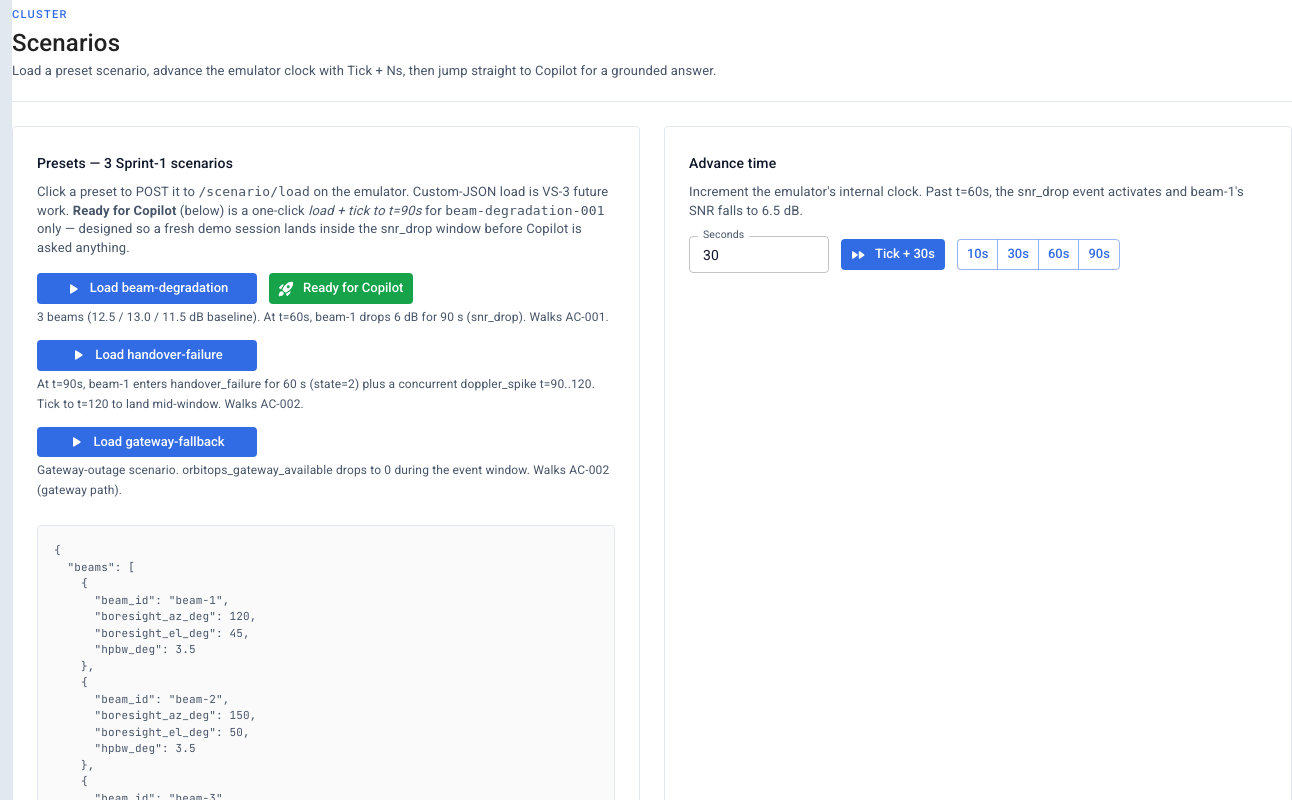
Test: Scenarios — Ready for Copilot affordance › after success it shows 'Ready for Copilot' status and lists snr_drop active
The image size is (1292, 800).
Click the button "Ready for Copilot": x=341, y=289 [269,273,413,304]
(page scrolled)
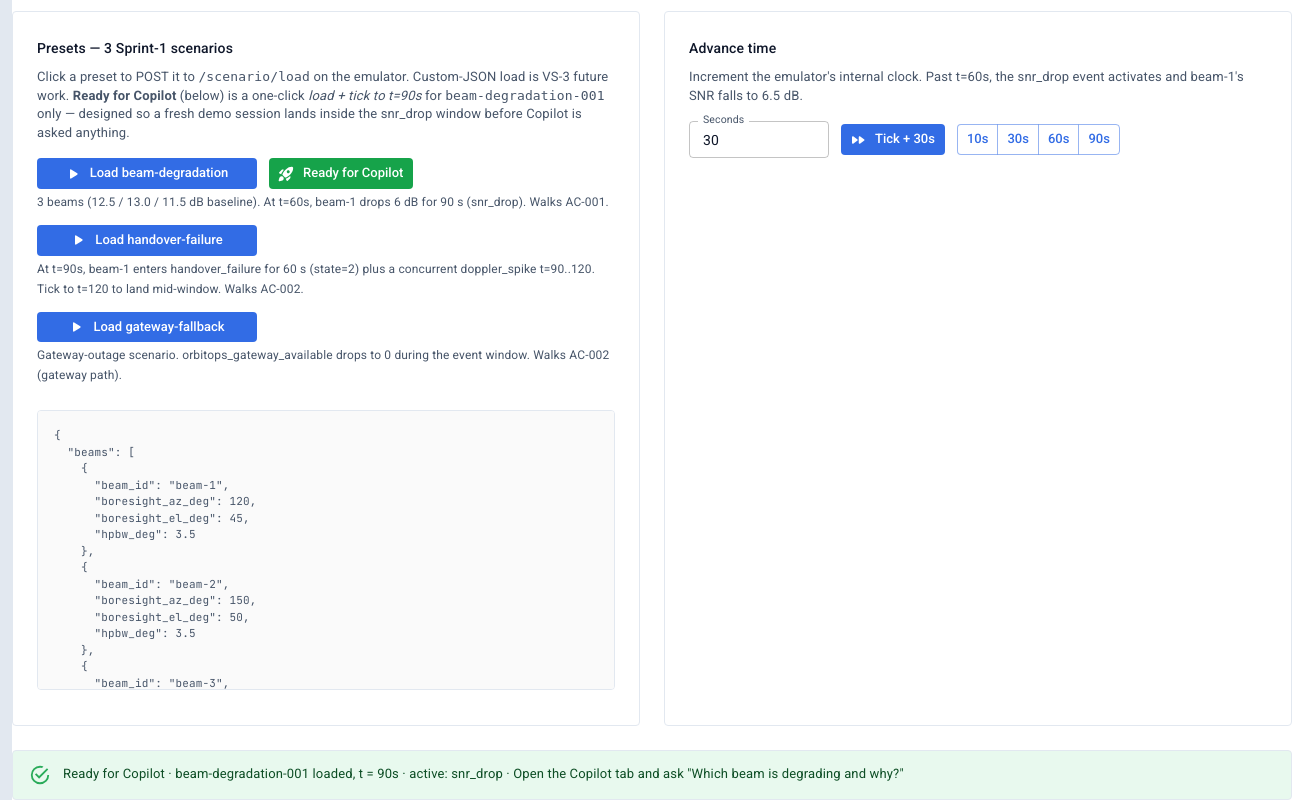
Expected: the message shows "snr_drop", [63,766,904,781]
